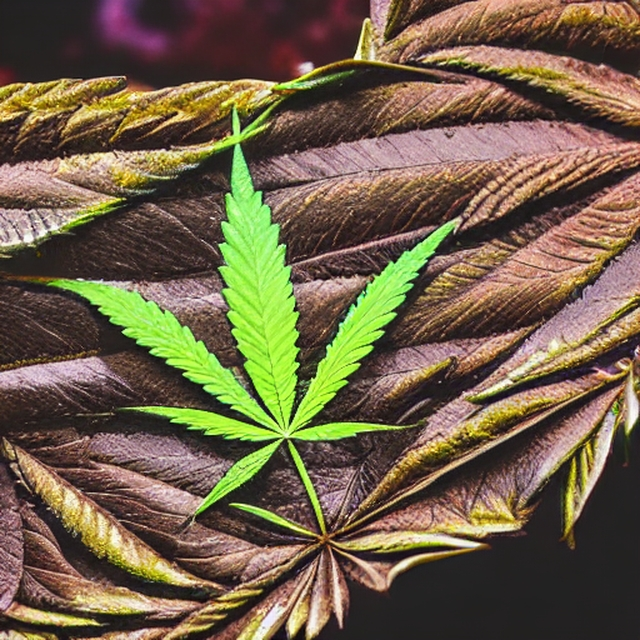Marijuana Leaf: (0, 0, 640, 640), (31, 129, 469, 537)
